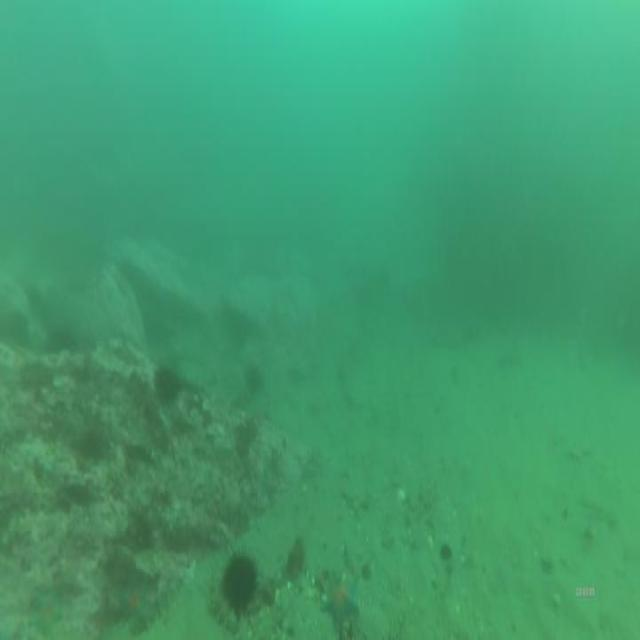echinus: (220, 539, 264, 619), (152, 355, 180, 411)
starfish: (316, 568, 364, 636), (116, 569, 154, 627), (33, 571, 65, 632)
